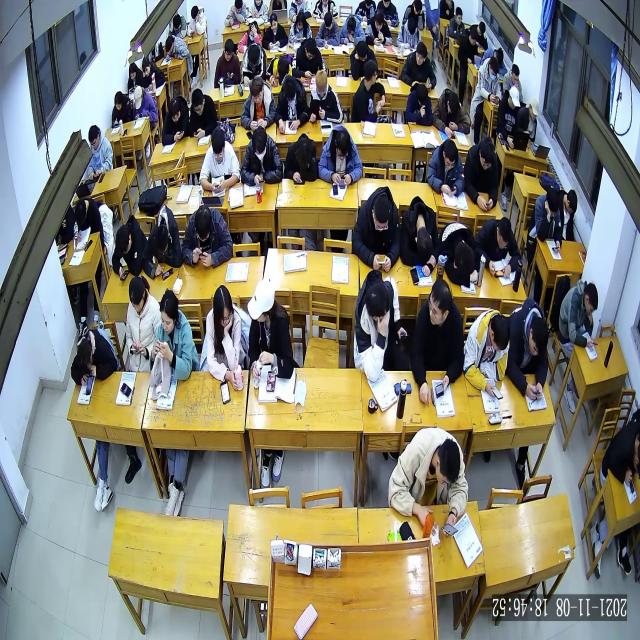bow: (506, 295, 550, 402), (141, 204, 184, 284), (399, 195, 440, 278), (476, 217, 521, 280), (70, 326, 116, 387), (439, 222, 481, 288), (112, 214, 148, 282), (432, 88, 471, 140), (283, 132, 319, 184), (400, 41, 437, 90), (160, 94, 190, 146), (240, 41, 267, 86), (350, 39, 378, 80), (265, 52, 292, 88), (340, 12, 366, 46), (238, 20, 262, 54), (165, 33, 190, 62), (223, 1, 247, 27), (469, 21, 489, 51), (169, 12, 188, 40)
down: (434, 437, 461, 489), (527, 315, 550, 360), (158, 290, 179, 337), (214, 284, 235, 330), (490, 312, 511, 354), (371, 194, 392, 234), (194, 204, 213, 243), (75, 341, 94, 377), (128, 276, 146, 314), (210, 127, 226, 166), (115, 222, 133, 256), (479, 136, 495, 172), (583, 282, 599, 318), (334, 129, 351, 162), (252, 126, 268, 161), (496, 217, 512, 252), (249, 76, 266, 108), (296, 137, 312, 171), (442, 139, 458, 172), (190, 86, 206, 116), (546, 188, 560, 220), (283, 76, 298, 104), (315, 68, 328, 99), (446, 92, 460, 120), (74, 197, 87, 226), (169, 96, 182, 124), (508, 85, 521, 112), (566, 188, 578, 217), (416, 82, 429, 108), (248, 42, 260, 70), (88, 125, 100, 152), (528, 97, 540, 123), (488, 56, 500, 82), (305, 38, 317, 62), (356, 41, 368, 64), (223, 39, 234, 63), (373, 8, 384, 32), (407, 16, 418, 39), (133, 86, 143, 111), (510, 63, 520, 88), (323, 10, 334, 31), (165, 33, 175, 54), (469, 26, 479, 47), (172, 12, 182, 32), (248, 22, 258, 42), (269, 12, 279, 32), (296, 10, 306, 30), (346, 16, 356, 36), (114, 90, 123, 112), (142, 57, 151, 78), (191, 3, 200, 22), (478, 20, 487, 38), (128, 62, 136, 82)
lookup: (415, 40, 428, 66), (454, 6, 463, 27)
sit: (388, 426, 468, 539), (408, 276, 464, 406), (352, 268, 407, 382), (246, 277, 295, 383), (148, 288, 196, 382), (462, 307, 511, 399), (352, 184, 402, 274), (204, 283, 245, 391), (124, 272, 162, 374), (181, 202, 233, 270), (558, 278, 600, 350), (317, 124, 363, 187), (463, 135, 500, 212), (240, 124, 284, 188), (200, 125, 240, 193), (426, 138, 466, 198), (600, 426, 640, 486), (274, 73, 309, 136), (351, 60, 385, 124), (240, 73, 276, 133), (307, 69, 344, 125), (534, 186, 564, 254), (496, 84, 521, 149), (188, 88, 218, 140), (86, 126, 113, 182), (292, 37, 326, 80), (213, 37, 240, 90), (404, 81, 433, 128), (478, 55, 502, 107), (73, 196, 100, 241), (364, 9, 393, 47), (558, 188, 578, 242), (262, 13, 289, 52), (314, 9, 340, 48), (518, 98, 539, 145), (132, 85, 158, 122), (457, 25, 479, 66), (395, 16, 421, 50), (110, 89, 132, 128), (288, 10, 312, 45), (142, 56, 165, 92), (502, 63, 523, 102), (186, 3, 206, 38), (448, 6, 466, 38), (127, 60, 143, 93)
